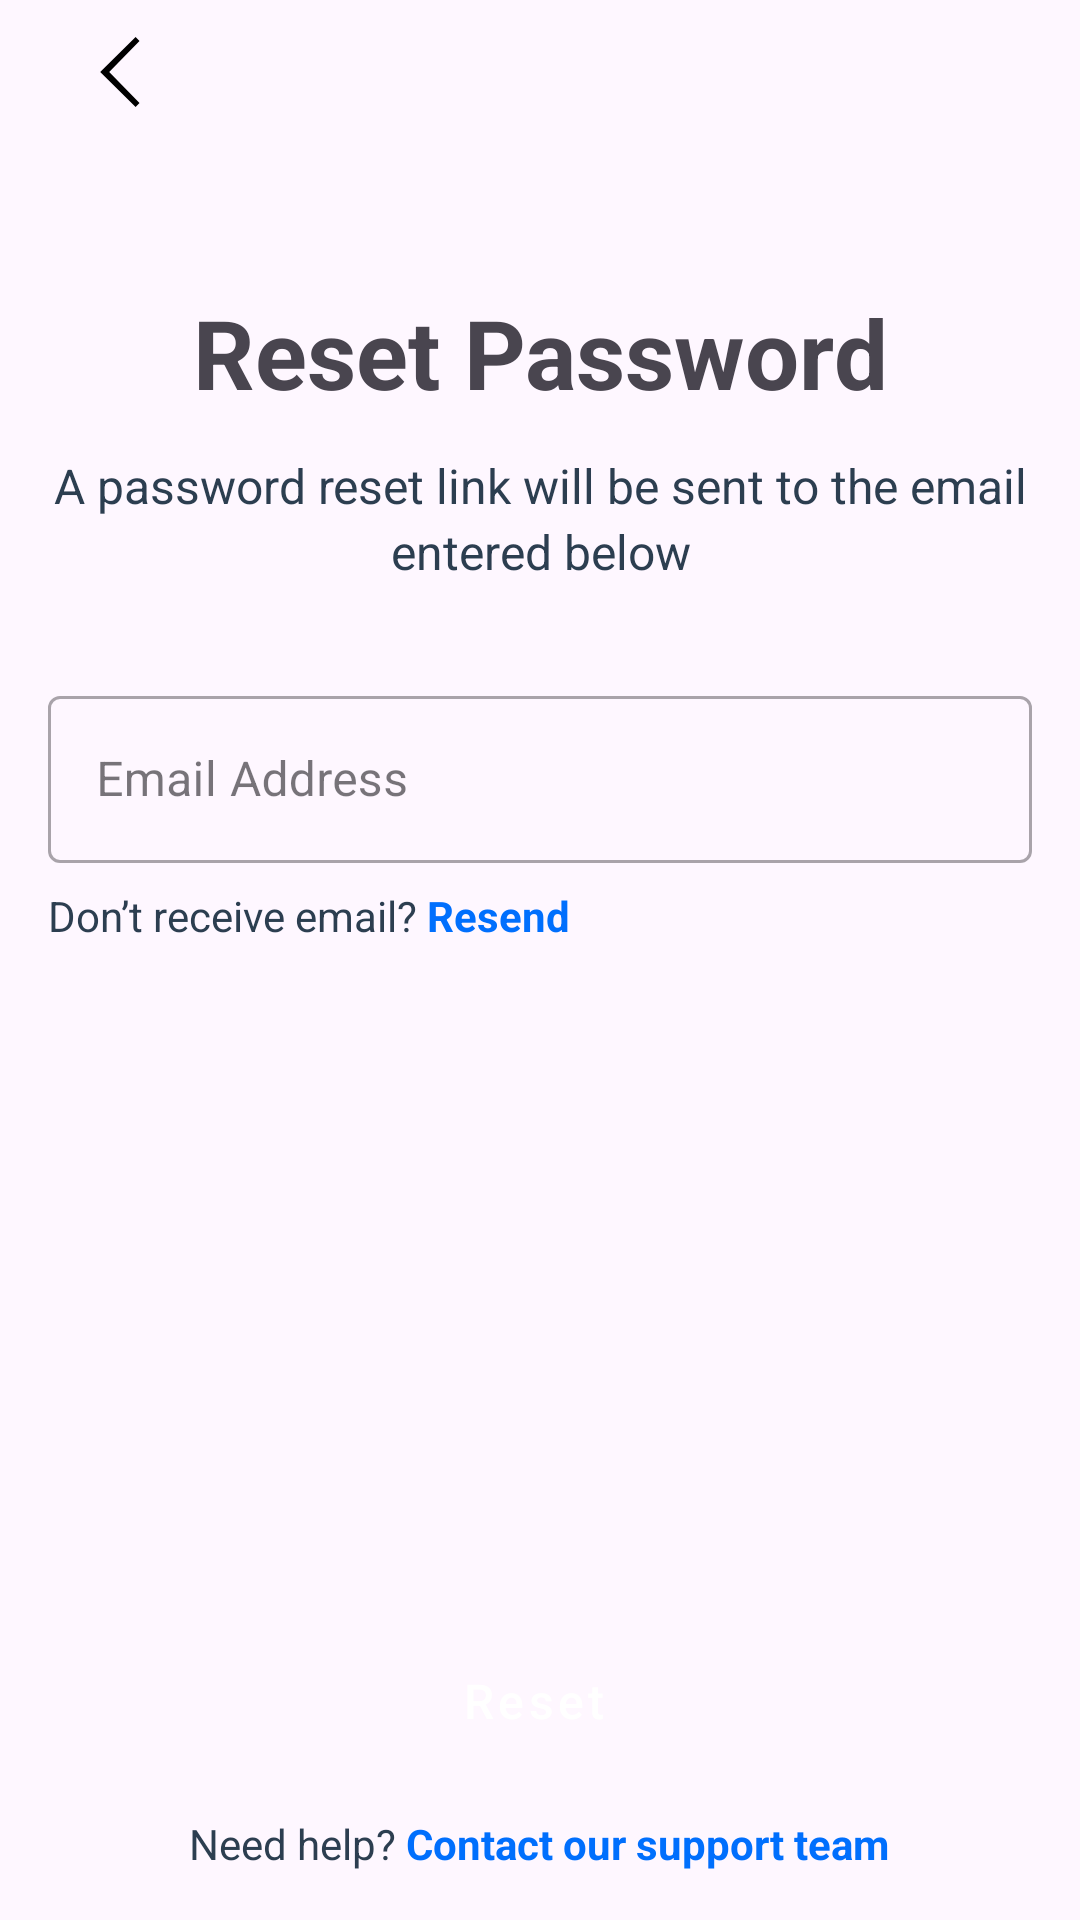

Icon click points for this 1080 × 1920 phone screenshot, format (x,y):
back: (120,72)
